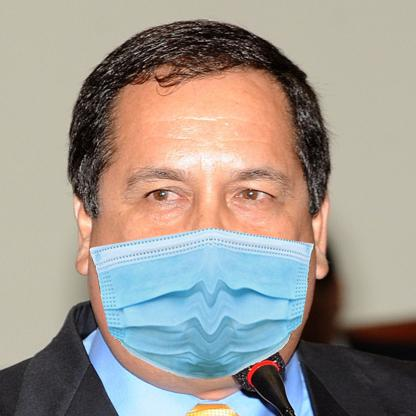mask: (84, 223, 318, 385)
